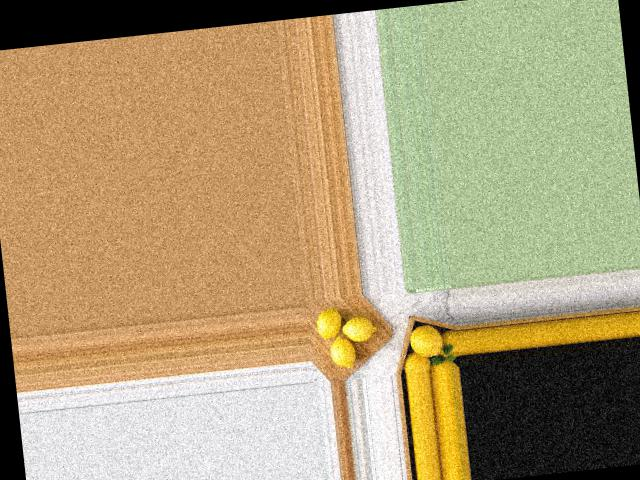lemon: (311, 301, 350, 341)
